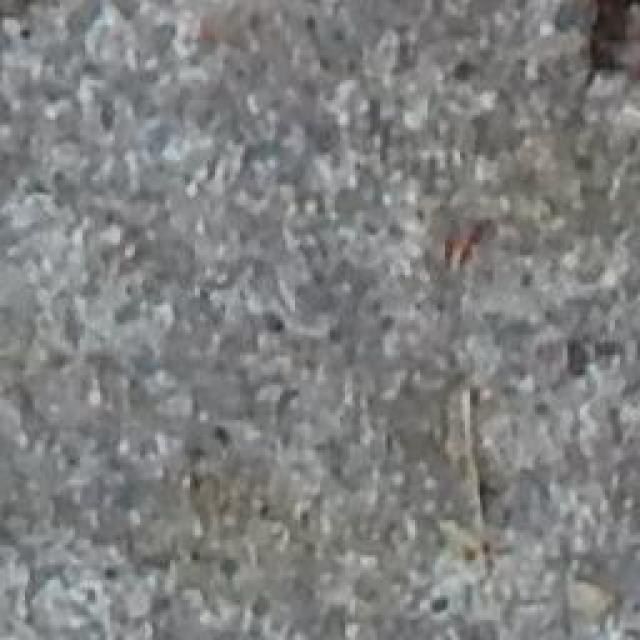concrete-crack: (578, 0, 640, 105)
